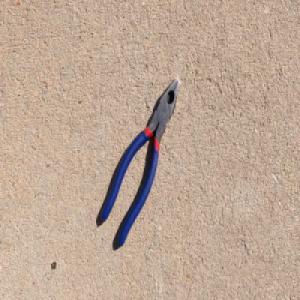Pliers: (98, 65, 186, 250)
